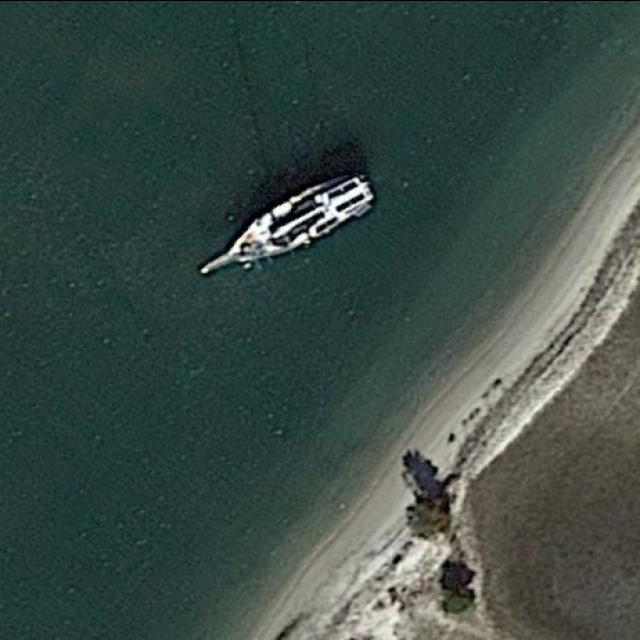ship: (196, 170, 384, 270)
